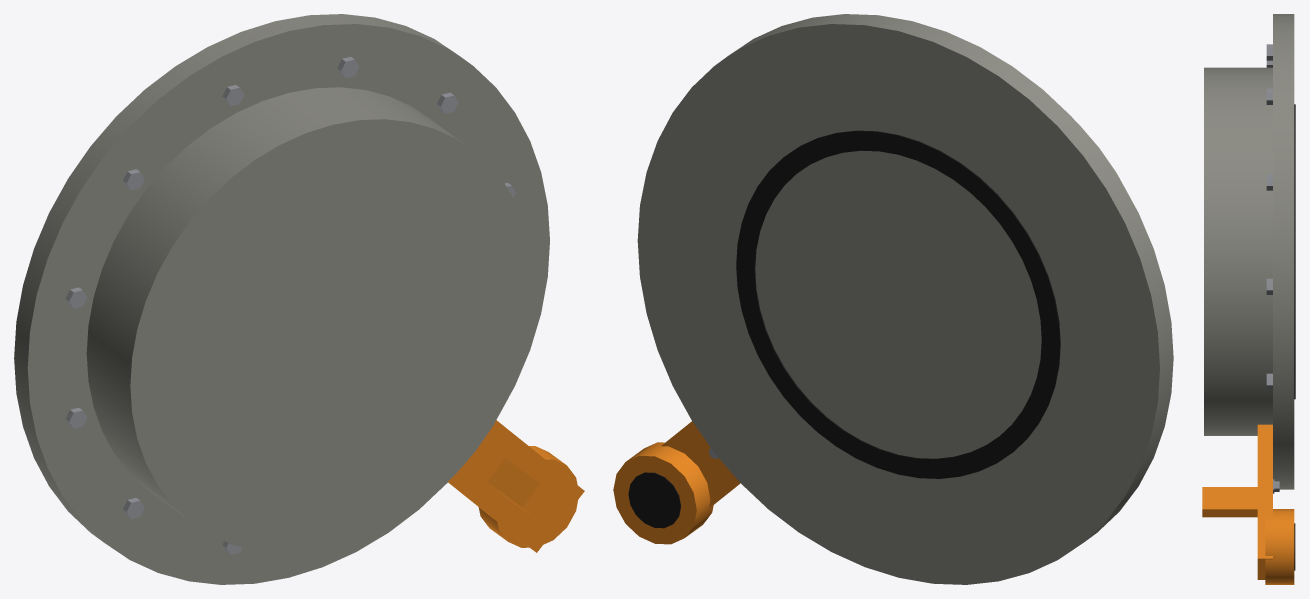
File: bunk500_flange_fore.obj
The picture shows the model from 3 angles, left to right: view 1: azimuth 30°, elevation 25°; view 2: azimuth 150°, elevation 25°; view 3: azimuth 270°, elevation 25°; orthographic projection. The views are drawn at different scales.
Parts seen in each view (by area): view 1: bunk500_flange_fore; view 2: bunk500_flange_fore; view 3: bunk500_flange_fore.
Part boxes in pixels (x1,y1,x2,y2): bunk500_flange_fore: (14, 14, 584, 584); bunk500_flange_fore: (613, 14, 1173, 584); bunk500_flange_fore: (1202, 14, 1295, 584).
Size of the model in its own units: 3.25 by 3.25 by 0.6072.
